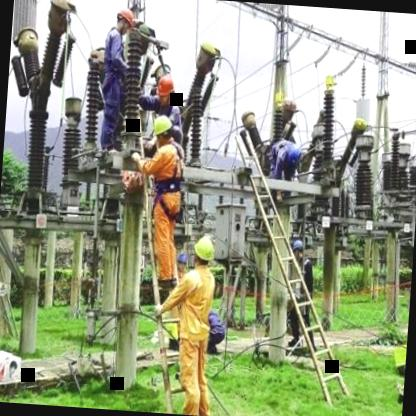helmet: (191, 236, 217, 272), (150, 110, 174, 148), (152, 72, 178, 107), (113, 7, 136, 38), (291, 238, 308, 263), (176, 250, 190, 275)
